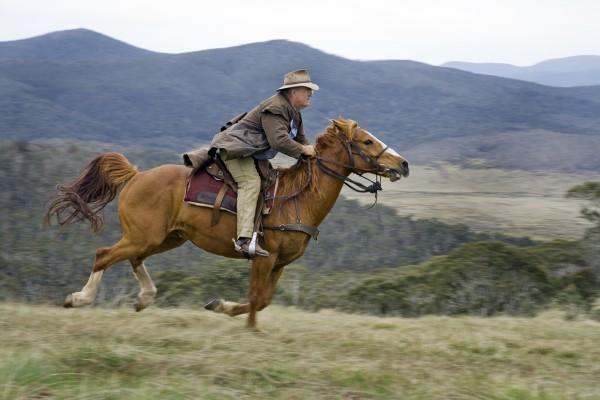person: (211, 69, 319, 260)
